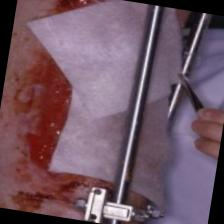orthopaedic-wounds: (0, 38, 99, 205), (39, 0, 117, 28)
